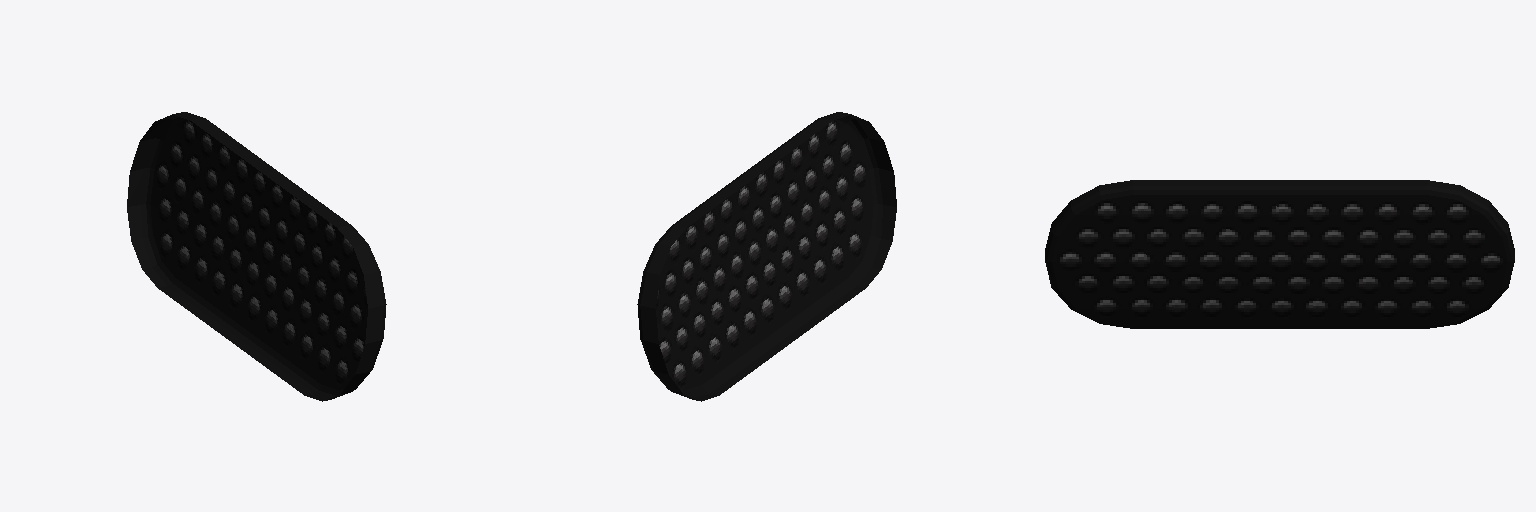
3 views of the same model, side by side, from view 1: azimuth 30°, elevation 25°; view 2: azimuth 150°, elevation 25°; view 3: azimuth 270°, elevation 25° (orthographic).
Visible parts, largest first — view 1: polySurface275_polySurface286; view 2: polySurface275_polySurface286; view 3: polySurface275_polySurface286.
Part boxes in pixels (x1,y1,x2,y2): polySurface275_polySurface286: (127,112,386,401); polySurface275_polySurface286: (637,112,896,401); polySurface275_polySurface286: (1045,180,1514,328).
Size of the model in its own units: 0.0024 by 0.0074 by 0.0198.
Materials: 1 (1 with a texture image).